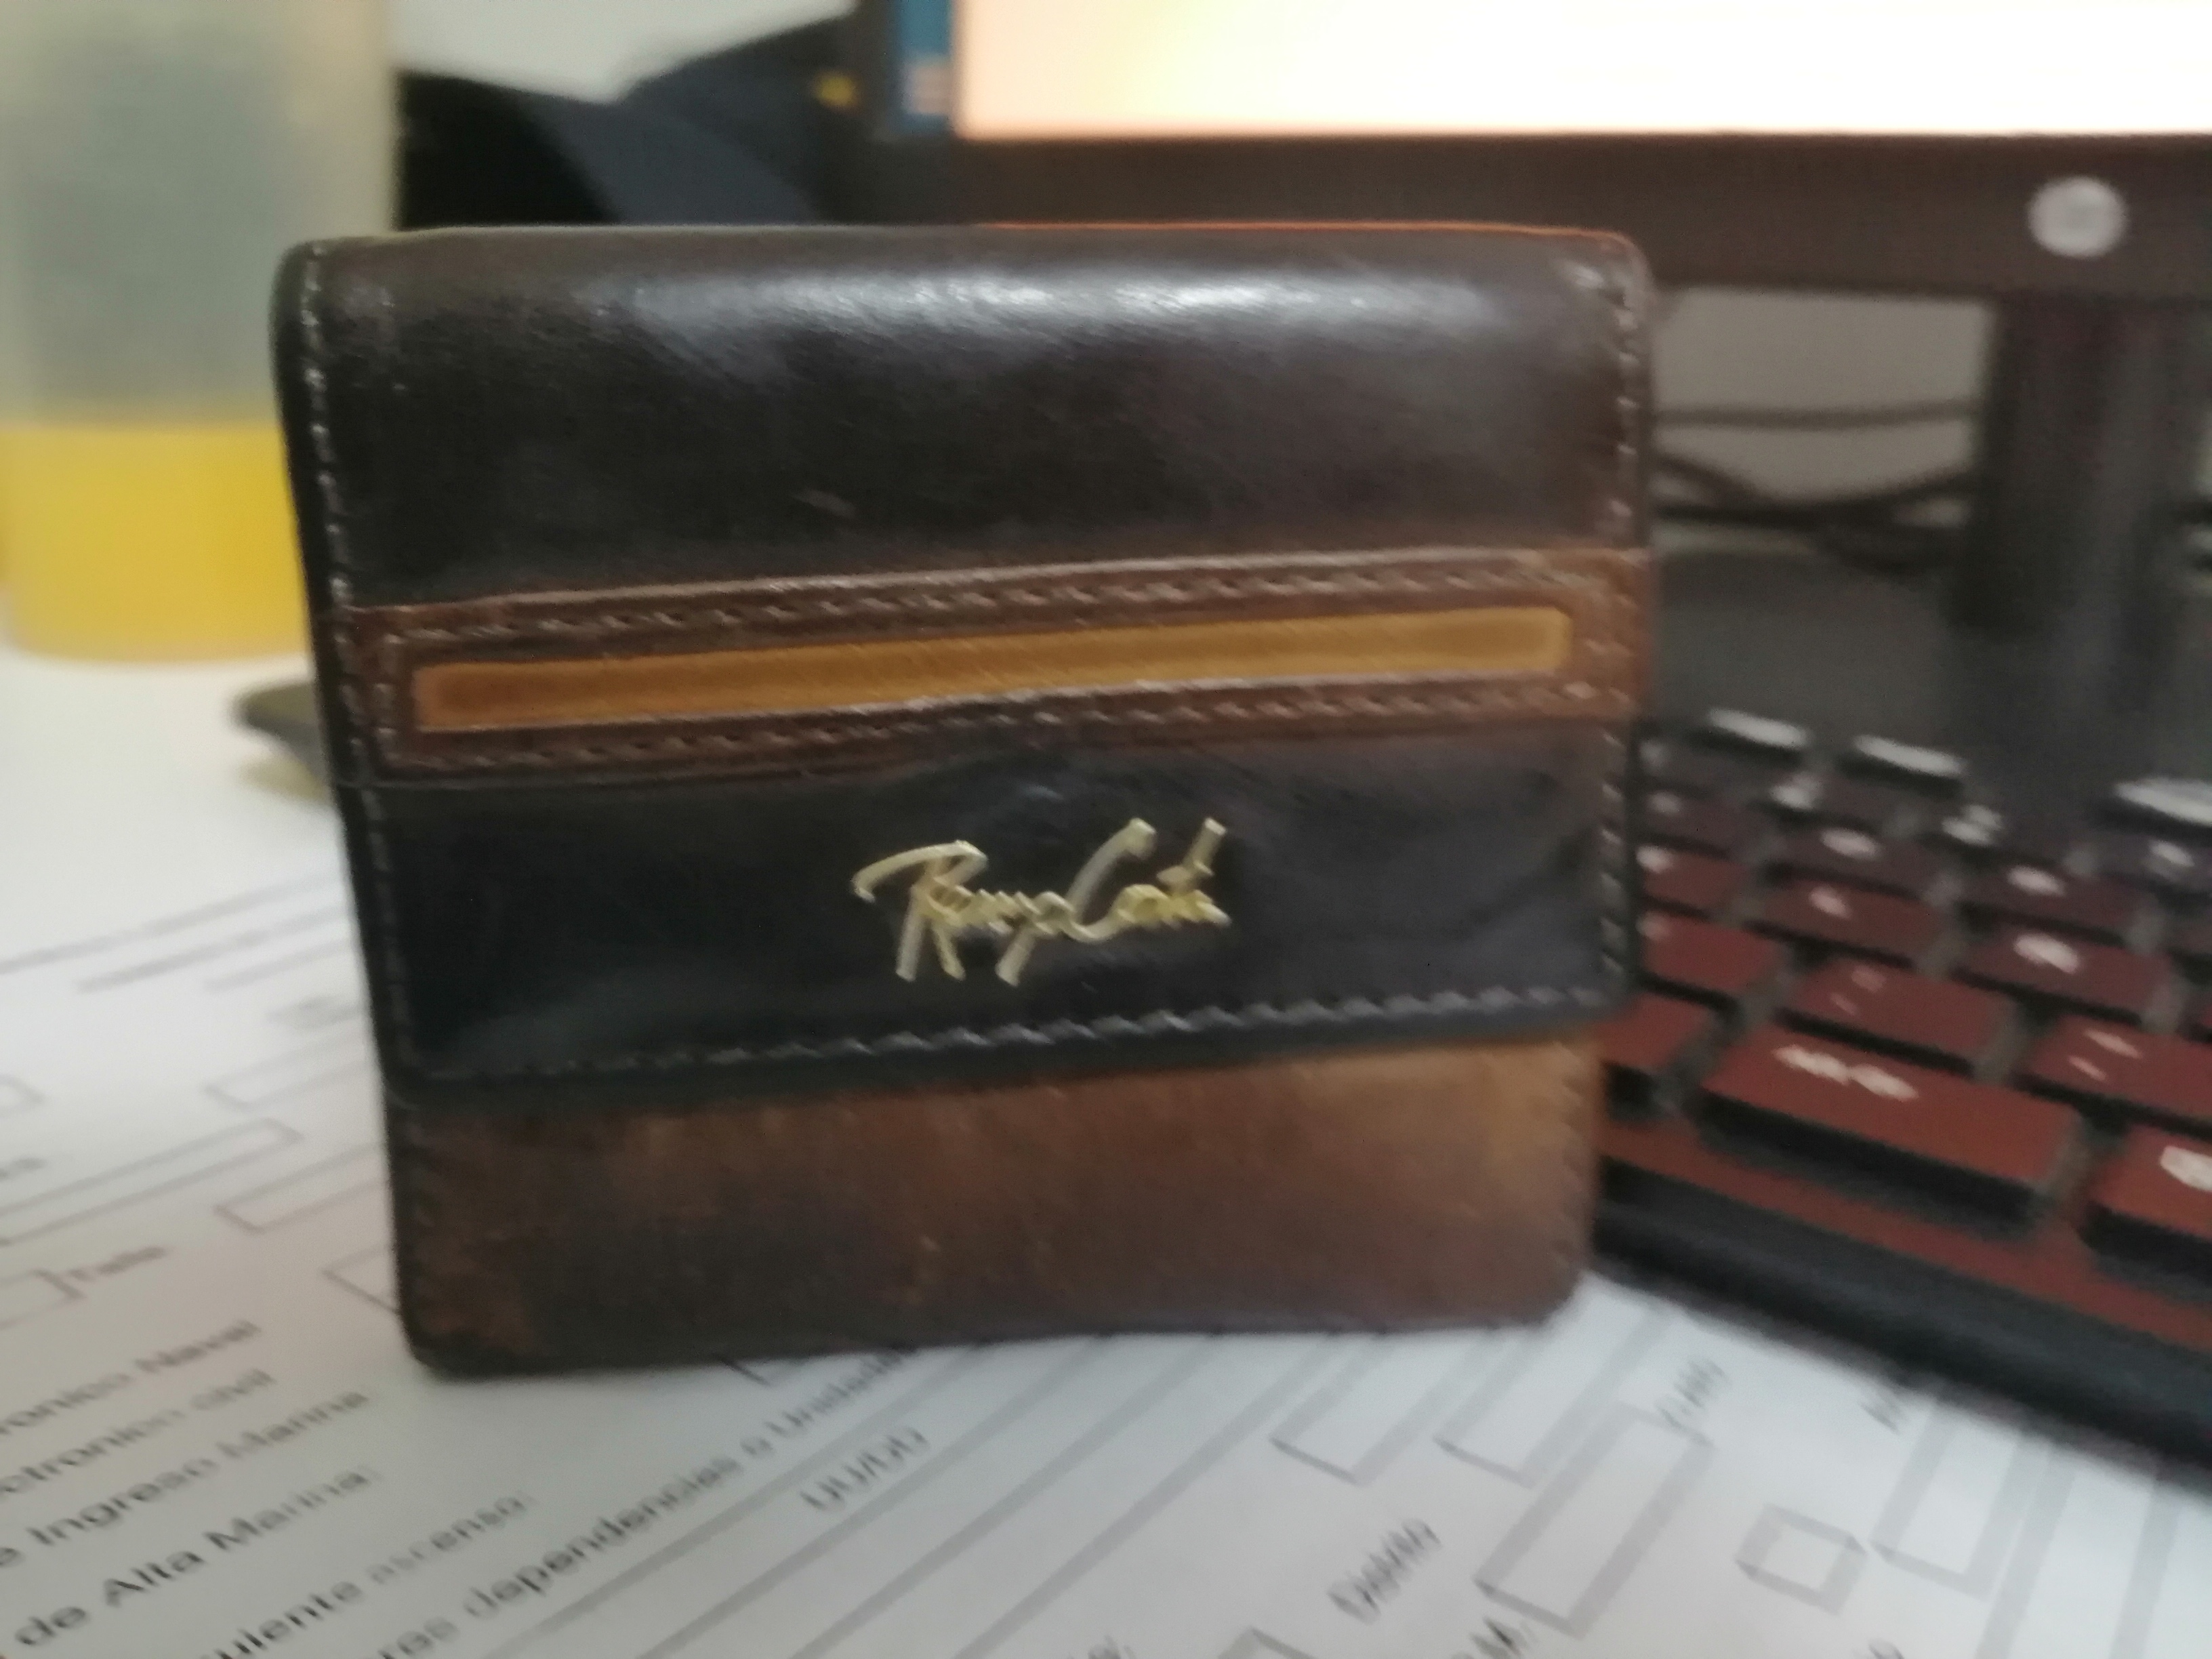monedero: (251, 186, 1679, 1419)
